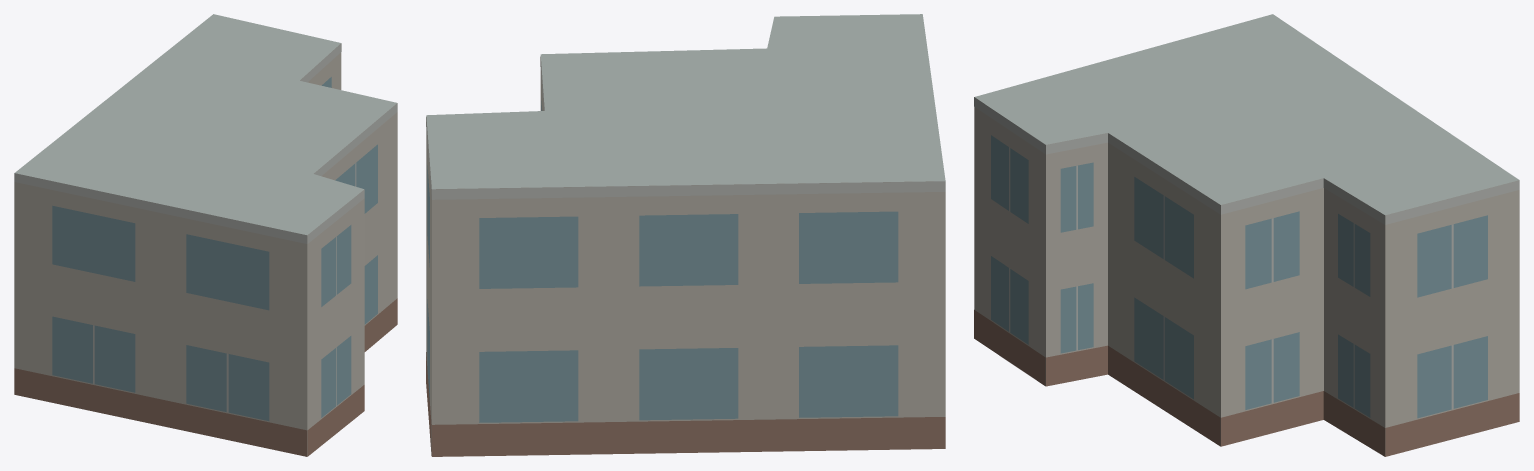
Rendered from survey-upis-32912288.glb.
3 views of the same model, side by side, from view 1: azimuth 30°, elevation 25°; view 2: azimuth 150°, elevation 25°; view 3: azimuth 270°, elevation 25° (orthographic). The views are drawn at different scales.
Visible parts, largest first — view 1: survey-upis-32912288.tmp; view 2: survey-upis-32912288.tmp; view 3: survey-upis-32912288.tmp.
Part boxes in pixels (left/top/right/bottom): survey-upis-32912288.tmp: left=14, top=14, right=397, bottom=456; survey-upis-32912288.tmp: left=426, top=14, right=945, bottom=456; survey-upis-32912288.tmp: left=974, top=14, right=1519, bottom=456.
Bounding box in the file's own units: 10.91 × 6.1 × 12.49.
